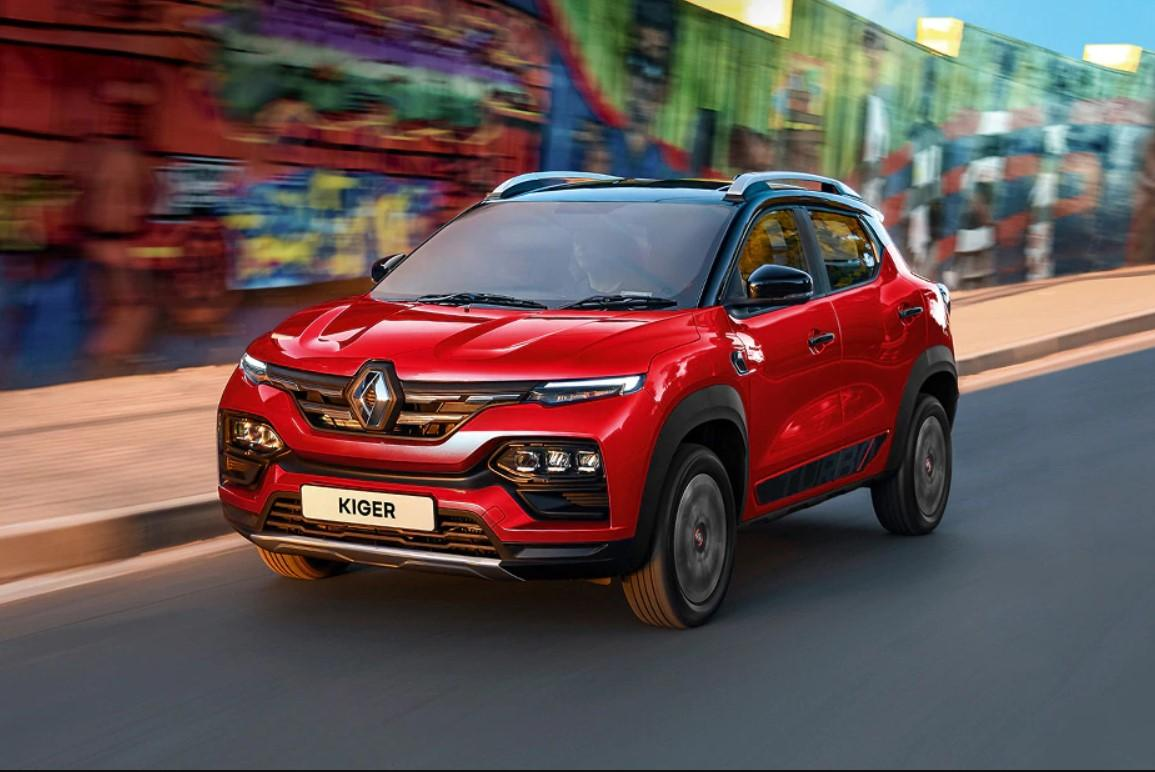Renault: (335, 357, 407, 442)
